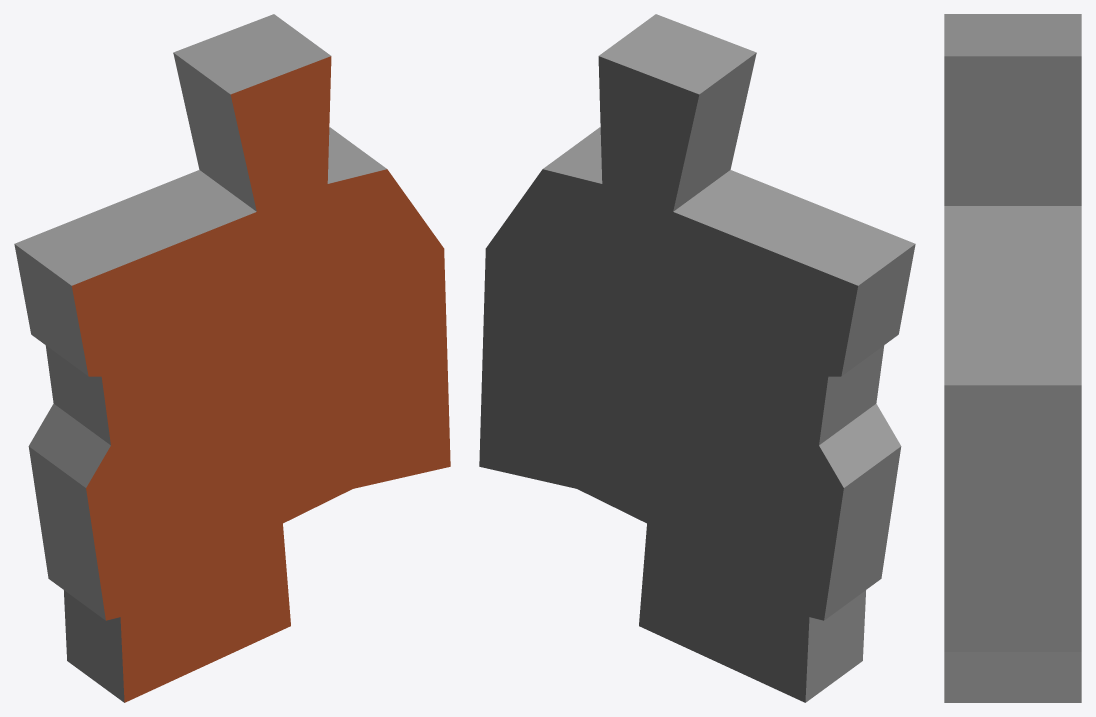
The model's file is construction_1632_assumed_A_Casa_h6m.obj.
3 renders of one model, left to right at view 1: azimuth 30°, elevation 25°; view 2: azimuth 150°, elevation 25°; view 3: azimuth 270°, elevation 25°, orthographic. The views are drawn at different scales.
Parts seen in each view (by area): view 1: construction_1632_assumed_A_Casa; view 2: construction_1632_assumed_A_Casa; view 3: construction_1632_assumed_A_Casa.
Part boxes in pixels (x1=…): construction_1632_assumed_A_Casa: x1=14, y1=14, x2=450, y2=702; construction_1632_assumed_A_Casa: x1=479, y1=14, x2=915, y2=702; construction_1632_assumed_A_Casa: x1=944, y1=14, x2=1081, y2=702.
Bounding box in the file's own units: 22.87 × 34.4 × 6.
